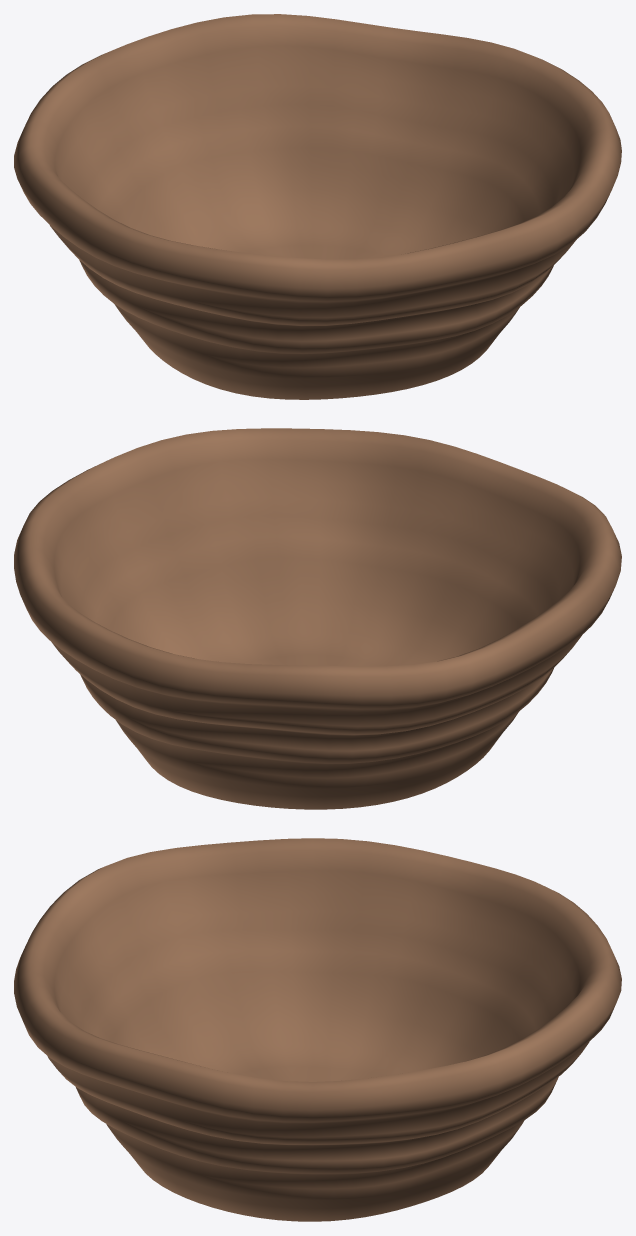
Rendered from bowl_coil_raised.glb.
The picture shows the model from 3 angles, top to bottom: view 1: azimuth 30°, elevation 25°; view 2: azimuth 150°, elevation 25°; view 3: azimuth 270°, elevation 25°; orthographic projection.
Visible parts, largest first — view 1: bowl_coil_raised; view 2: bowl_coil_raised; view 3: bowl_coil_raised.
Boxes of the visible parts, x1=… form: bowl_coil_raised: x1=14, y1=14, x2=621, y2=399; bowl_coil_raised: x1=14, y1=428, x2=621, y2=809; bowl_coil_raised: x1=14, y1=838, x2=621, y2=1221.
Bounding box in the file's own units: 0.178 × 0.0636 × 0.178.
